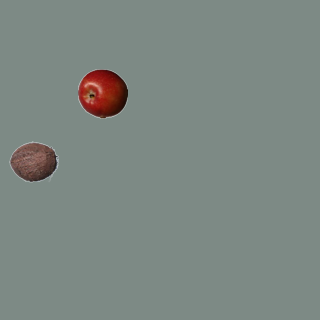Apple Braeburn: (77, 68, 127, 118)
Cocos: (8, 136, 58, 186)
